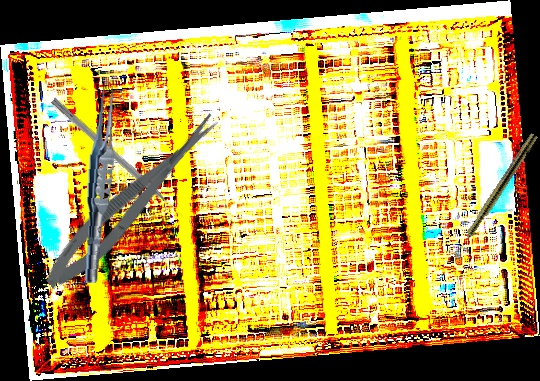Handpiece: (450, 131, 539, 260)
Micro Scissor: (34, 106, 232, 299)
Pusher: (49, 97, 185, 221)
Tissue Forceps: (79, 82, 121, 285)
